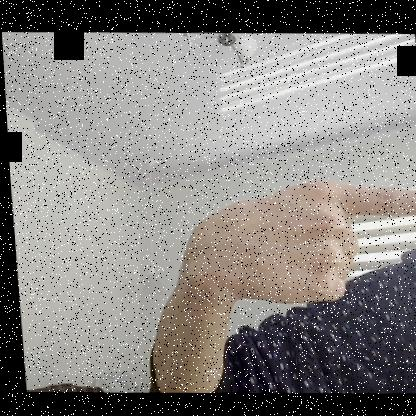G: (177, 173, 415, 306)
